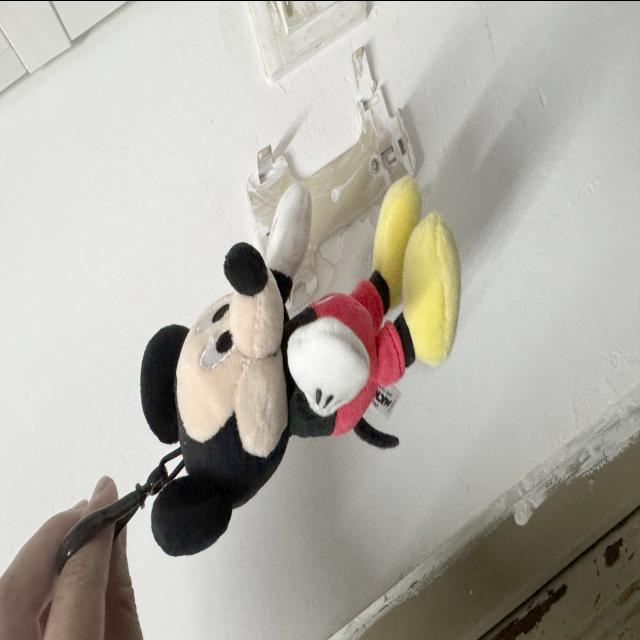mickey: (141, 177, 459, 554)
